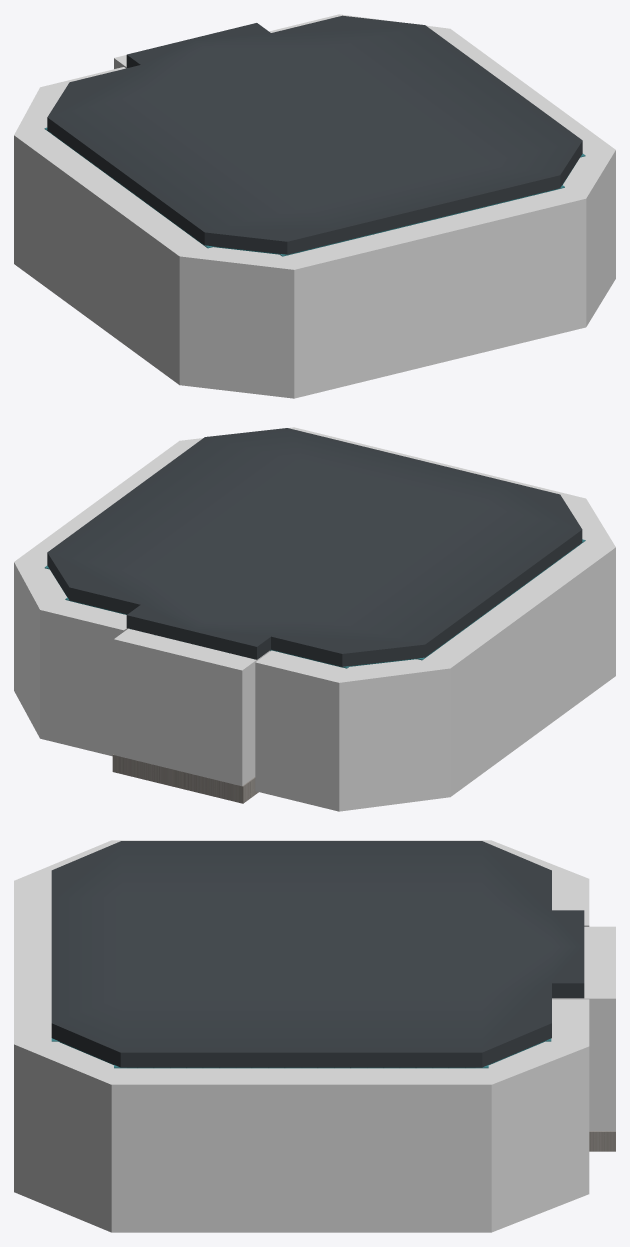
File: squidgame_background_map1.fbx
The picture shows the model from 3 angles, top to bottom: view 1: azimuth 30°, elevation 25°; view 2: azimuth 150°, elevation 25°; view 3: azimuth 270°, elevation 25°; orthographic projection. The views are drawn at different scales.
Visible parts, largest first — view 1: squidgame_props_map1_col, squidgame_background_map1_roof, squidgame_background_map1; view 2: squidgame_props_map1_col, squidgame_background_map1_roof, squidgame_background_map1_floor, squidgame_background_map1; view 3: squidgame_background_map1_roof, squidgame_props_map1_col, squidgame_background_map1, squidgame_background_map1_floor.
Boxes of the visible parts, left/top/right/bottom form: squidgame_props_map1_col: left=14, top=14, right=615, bottom=398; squidgame_background_map1_roof: left=47, top=15, right=582, bottom=254; squidgame_background_map1: left=44, top=127, right=585, bottom=256; squidgame_props_map1_col: left=14, top=427, right=615, bottom=811; squidgame_background_map1_roof: left=47, top=428, right=582, bottom=666; squidgame_background_map1_floor: left=112, top=754, right=258, bottom=803; squidgame_background_map1: left=44, top=539, right=585, bottom=668; squidgame_background_map1_roof: left=51, top=841, right=584, bottom=1067; squidgame_props_map1_col: left=14, top=840, right=615, bottom=1232; squidgame_background_map1: left=51, top=1038, right=551, bottom=1068; squidgame_background_map1_floor: left=589, top=1131, right=615, bottom=1151.
Size of the model in its own units: 35.26 by 11.33 by 36.69.
